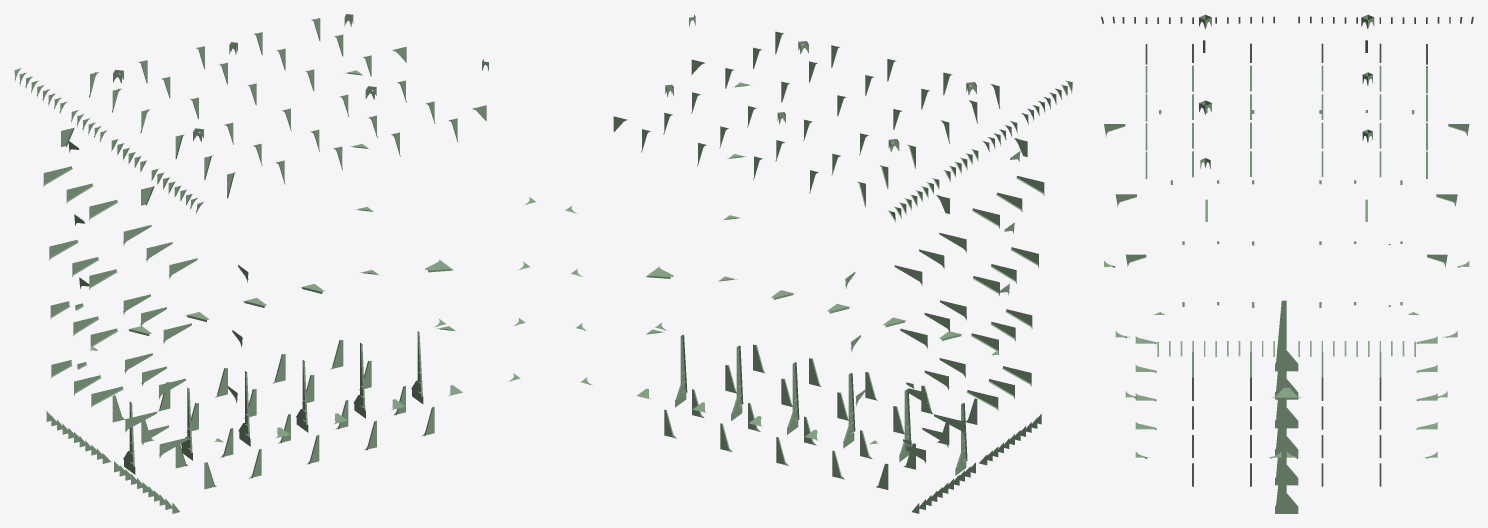
Rendered from NO_3_CENTRAL_CARGO_OIL_TK.glb.
3 renders of one model, left to right at view 1: azimuth 30°, elevation 25°; view 2: azimuth 150°, elevation 25°; view 3: azimuth 270°, elevation 25°, orthographic. The views are drawn at different scales.
Parts seen in each view (by area): view 1: no part large enough to name; view 2: no part large enough to name; view 3: PL_CenterBHDBracketxNo3CenterTank_004001-12.5_NVA_1993.
Boxes of the visible parts, bbox=[...] form: PL_CenterBHDBracketxNo3CenterTank_004001-12.5_NVA_1993: bbox=[1275, 443, 1286, 513].
Bounding box in the file's own units: 31.44 × 31.5 × 28.92.
